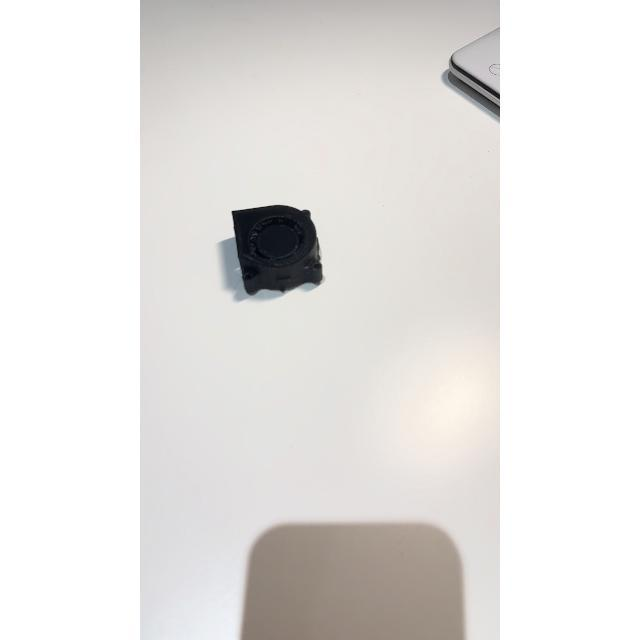Pieza3: (217, 194, 337, 304)
